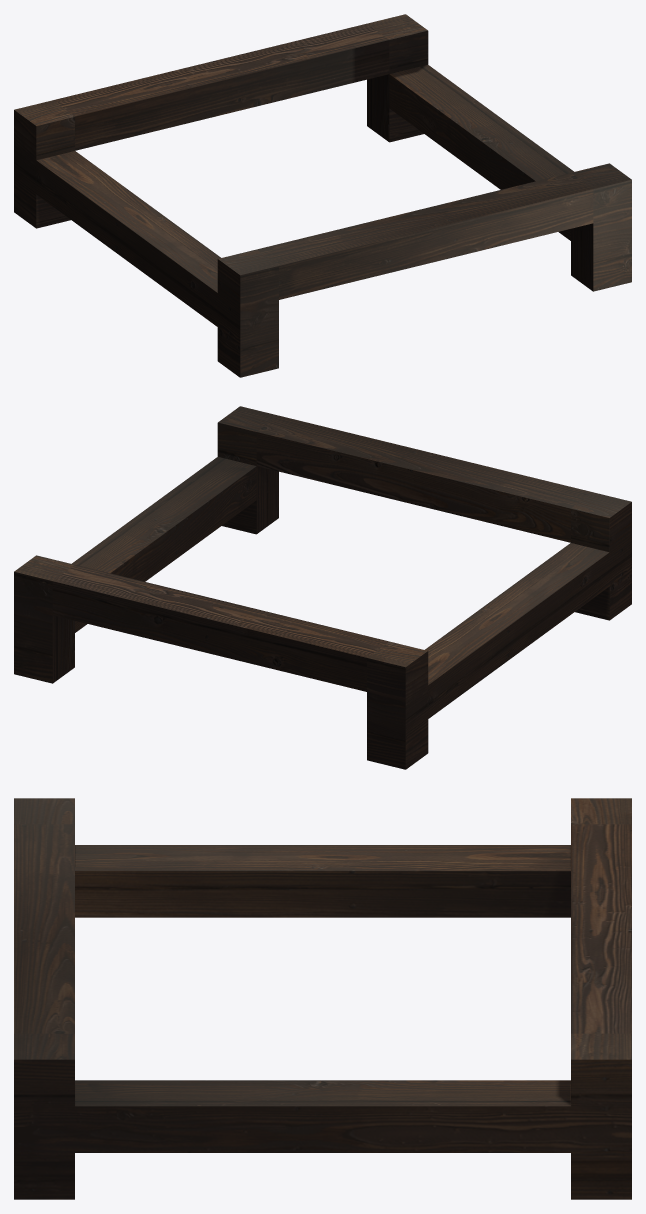
The model's file is KabukiSeating.FBX.
3 views of the same model, one above another, from view 1: azimuth 30°, elevation 25°; view 2: azimuth 150°, elevation 25°; view 3: azimuth 270°, elevation 25° (orthographic). The views are drawn at different scales.
Parts seen in each view (by area): view 1: KabukiSeating; view 2: KabukiSeating; view 3: KabukiSeating.
Part boxes in pixels (x1,y1,x2,y2): KabukiSeating: (14, 14, 631, 377); KabukiSeating: (14, 406, 631, 769); KabukiSeating: (14, 798, 631, 1199).
Bounding box in the file's own units: 3 × 0.75 × 3.
1 material, 1 textured.
